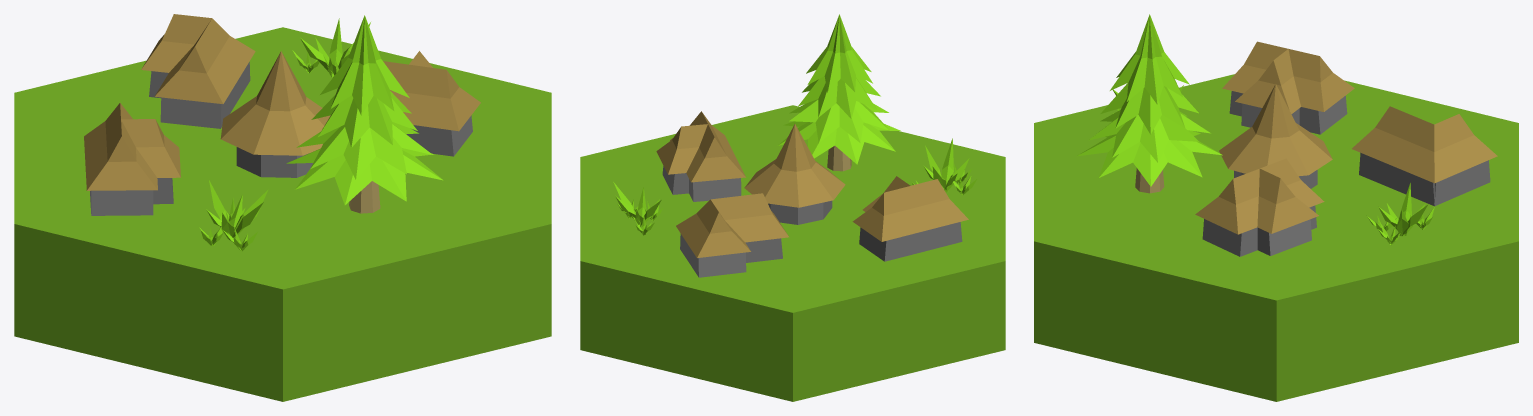
File: Casas_Pinos_Altos_4.fbx
The picture shows the model from 3 angles, left to right: view 1: azimuth 30°, elevation 25°; view 2: azimuth 150°, elevation 25°; view 3: azimuth 270°, elevation 25°; orthographic projection. The views are drawn at different scales.
Visible parts, largest first — view 1: Casas_Pinos_Altos_4; view 2: Casas_Pinos_Altos_4; view 3: Casas_Pinos_Altos_4.
Boxes of the visible parts, bbox=[...] form: Casas_Pinos_Altos_4: bbox=[14, 14, 551, 401]; Casas_Pinos_Altos_4: bbox=[580, 14, 1005, 401]; Casas_Pinos_Altos_4: bbox=[1034, 14, 1518, 401].
Size of the model in its own units: 200 by 108 by 173.
